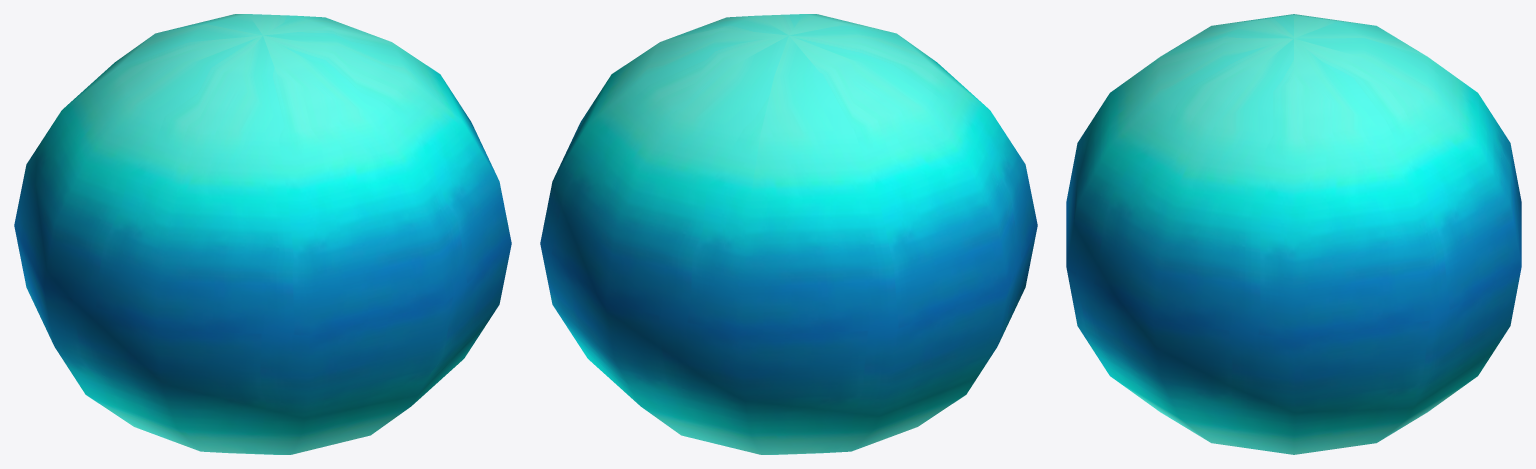
File: environment.glb
3 views of the same model, side by side, from view 1: azimuth 30°, elevation 25°; view 2: azimuth 150°, elevation 25°; view 3: azimuth 270°, elevation 25° (orthographic).
Size of the model in its own units: 24.15 by 20.94 by 22.05.
Materials: 89 (88 with a texture image).
